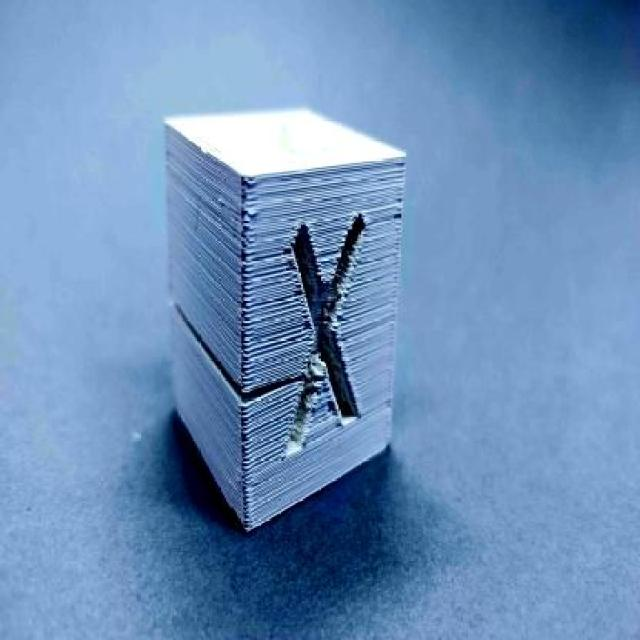Warping: (166, 294, 214, 366), (269, 362, 313, 411), (224, 376, 265, 413)
